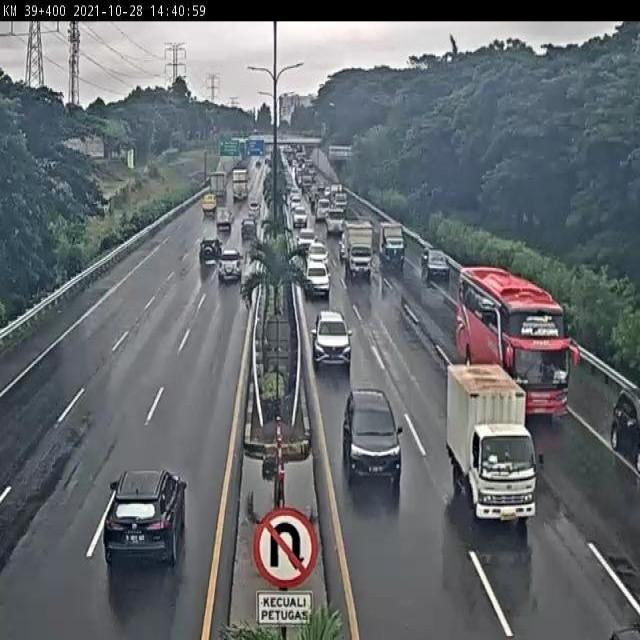bus-l-: (457, 265, 570, 419)
car: (105, 468, 187, 561), (342, 387, 403, 484), (311, 309, 353, 368), (303, 260, 332, 299), (422, 246, 451, 282), (217, 248, 242, 284), (198, 234, 224, 266)
truck-m-: (446, 365, 538, 523), (343, 221, 372, 276)
